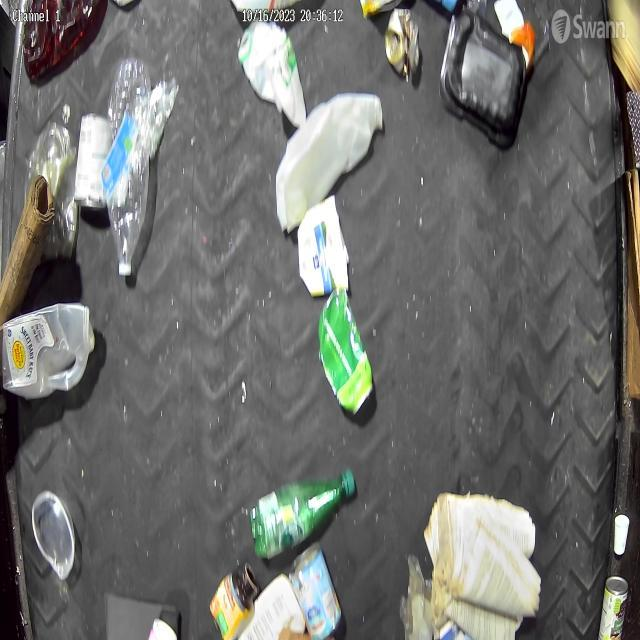can: (314, 288, 374, 416), (31, 488, 96, 592), (73, 106, 114, 222), (288, 535, 326, 640), (382, 3, 422, 84), (598, 570, 633, 640)
milk_jug: (274, 88, 386, 234)
non_white_jug: (0, 290, 94, 414)
plastic_bottle: (248, 462, 360, 566), (103, 53, 154, 280)
